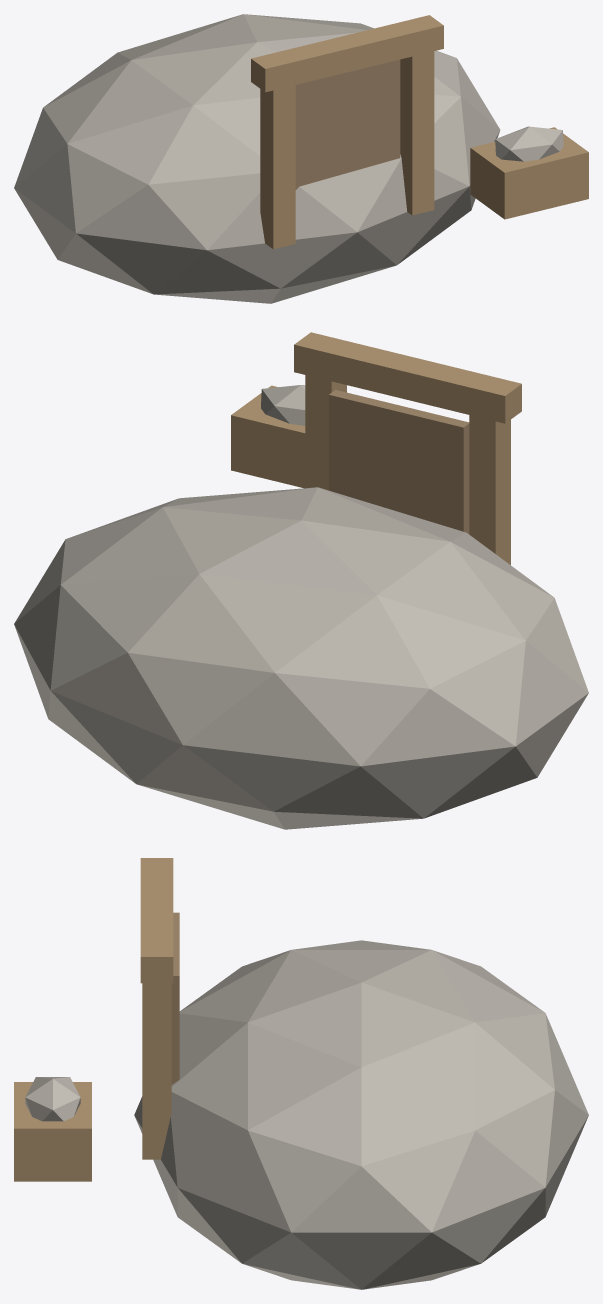
Rendered from civ_nature_mine.glb.
The picture shows the model from 3 angles, top to bottom: view 1: azimuth 30°, elevation 25°; view 2: azimuth 150°, elevation 25°; view 3: azimuth 270°, elevation 25°; orthographic projection. The views are drawn at different scales.
Visible parts, largest first — view 1: civ_nature_mine; view 2: civ_nature_mine; view 3: civ_nature_mine.
Part boxes in pixels (left/top/right/bottom): civ_nature_mine: left=14, top=14, right=588, bottom=303; civ_nature_mine: left=14, top=332, right=588, bottom=829; civ_nature_mine: left=14, top=858, right=588, bottom=1289.
Size of the model in its own units: 1.71 by 1.15 by 1.77.
